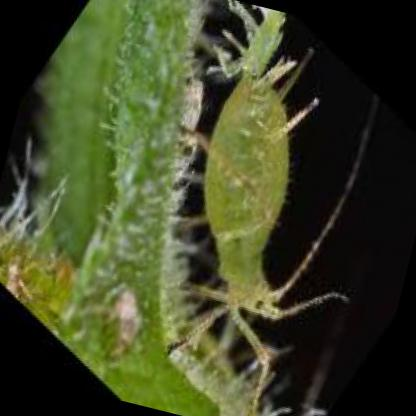uroleucon compositae: (188, 62, 315, 364)
